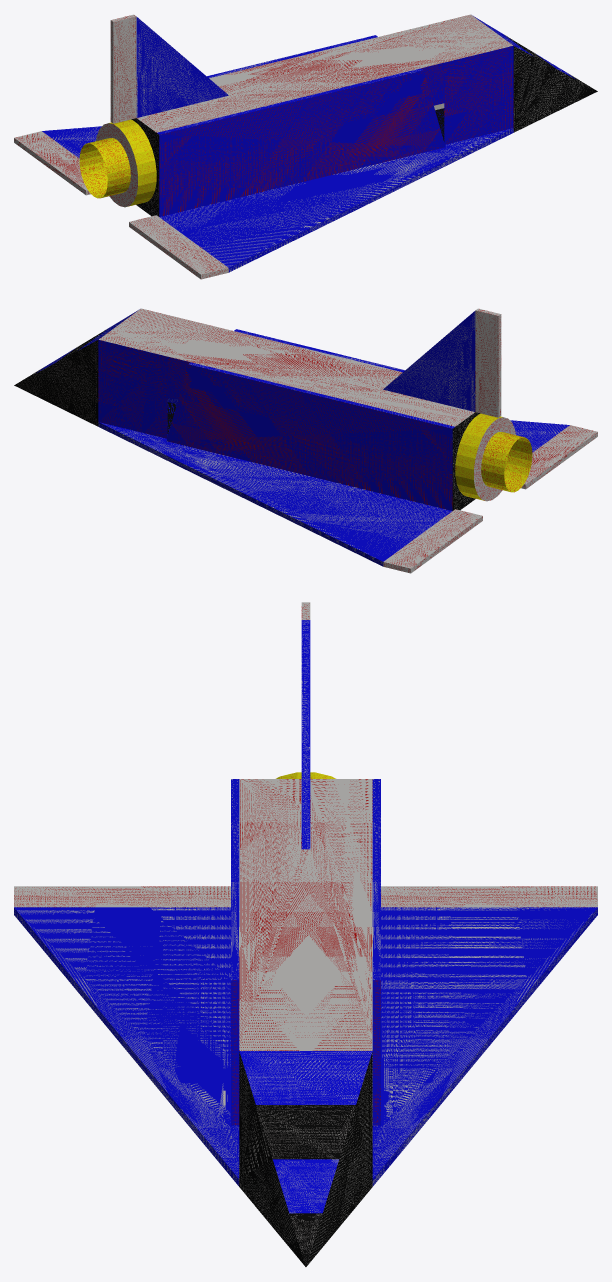
3 views of the same model, one above another, from view 1: azimuth 30°, elevation 25°; view 2: azimuth 150°, elevation 25°; view 3: azimuth 270°, elevation 25° (orthographic). The views are drawn at different scales.
Parts seen in each view (by area): view 1: mesh1_mesh1-geometry; view 2: mesh1_mesh1-geometry; view 3: mesh1_mesh1-geometry.
Boxes of the visible parts, left/top/right/bottom form: mesh1_mesh1-geometry: left=14, top=14, right=597, bottom=279; mesh1_mesh1-geometry: left=14, top=308, right=597, bottom=573; mesh1_mesh1-geometry: left=14, top=602, right=597, bottom=1266.
Size of the model in its own units: 0.8057 by 0.2883 by 0.5174.
